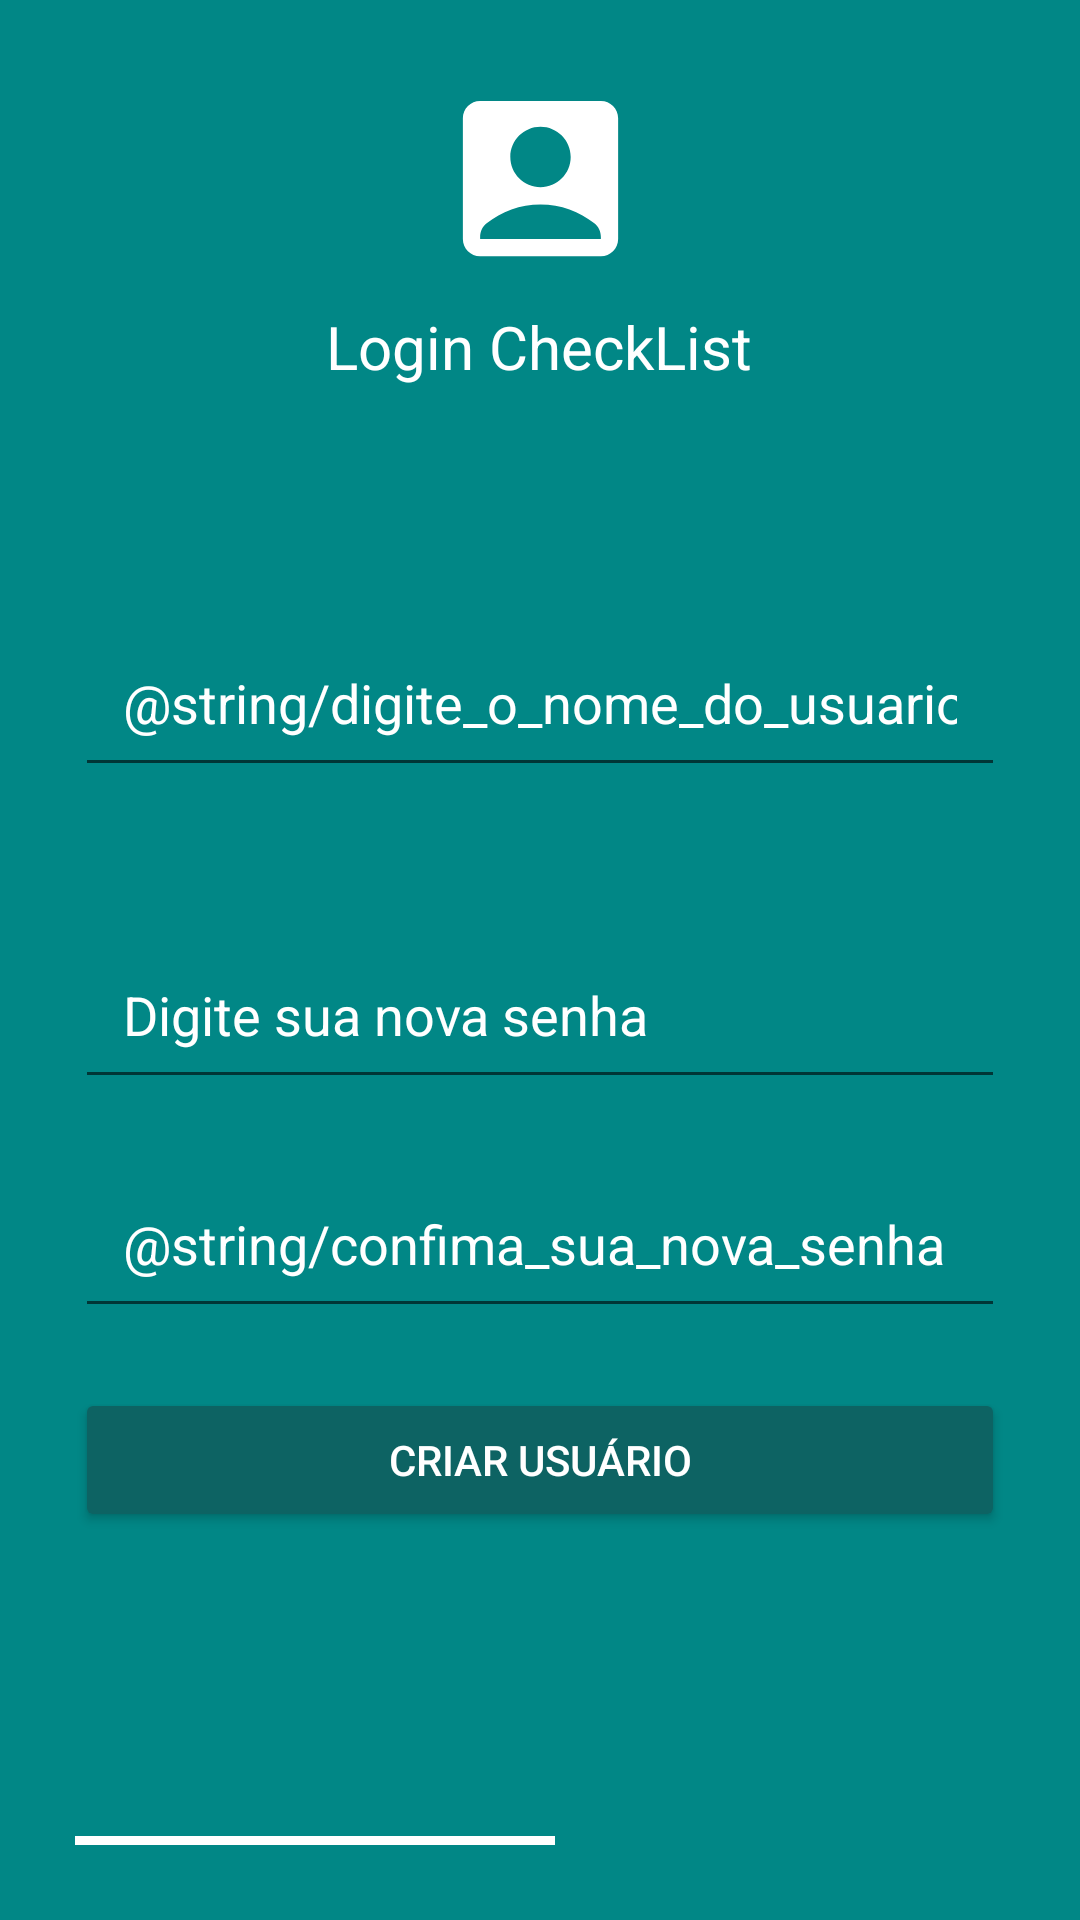

Point at icon controls on the screen. Image size 1080×1920, points as [x,y].
user: [540,179]
